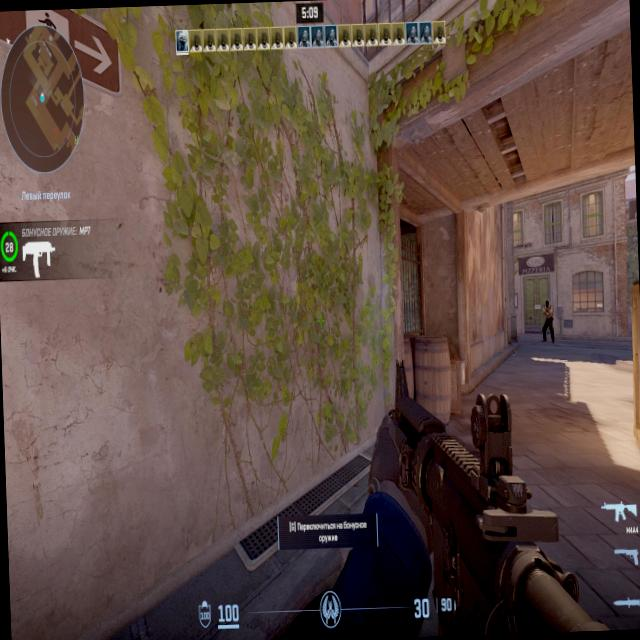T: (544, 300, 555, 338)
T_heat: (545, 302, 550, 312)
